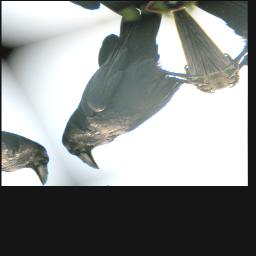Crow: (9, 4, 237, 177)
